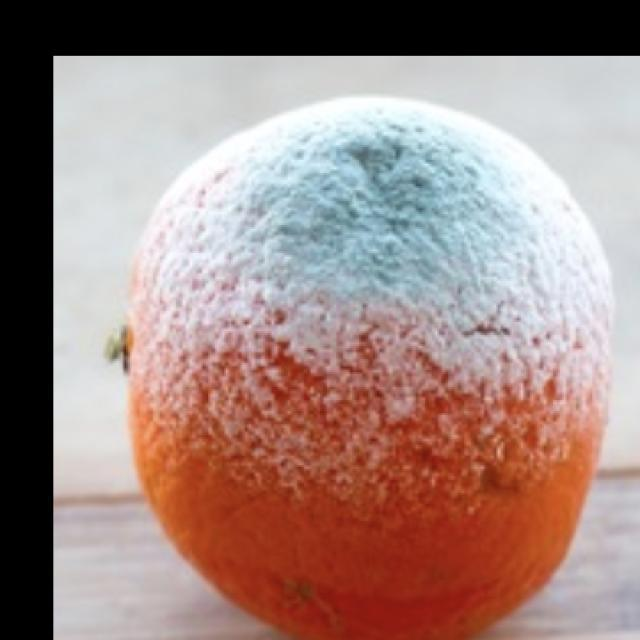sangat-busuk: (123, 99, 611, 639)
